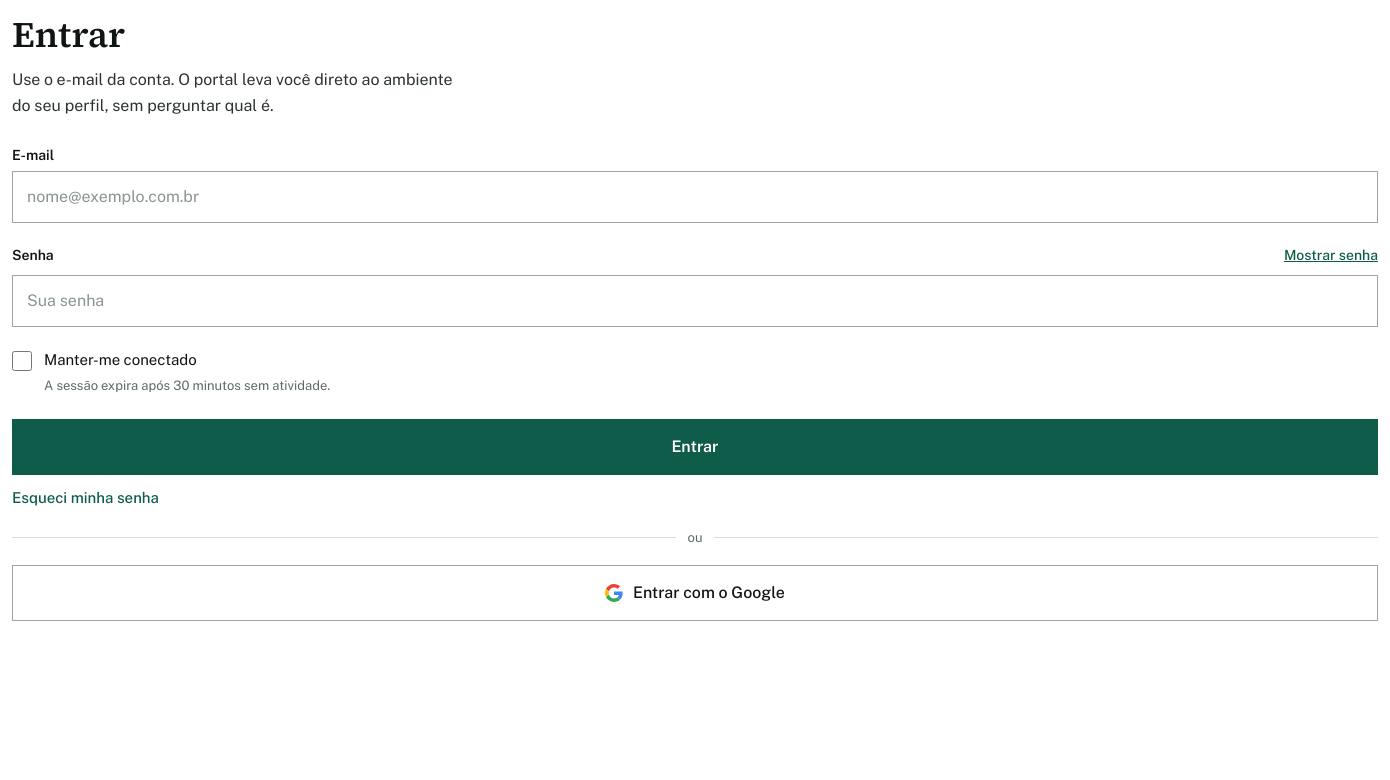
Test: LoginForm › diz antes de entrar quanto tempo a sessão vale
The image size is (1390, 780).
Click the checkbox. click: click(22, 361)
box: [12,351,32,371]
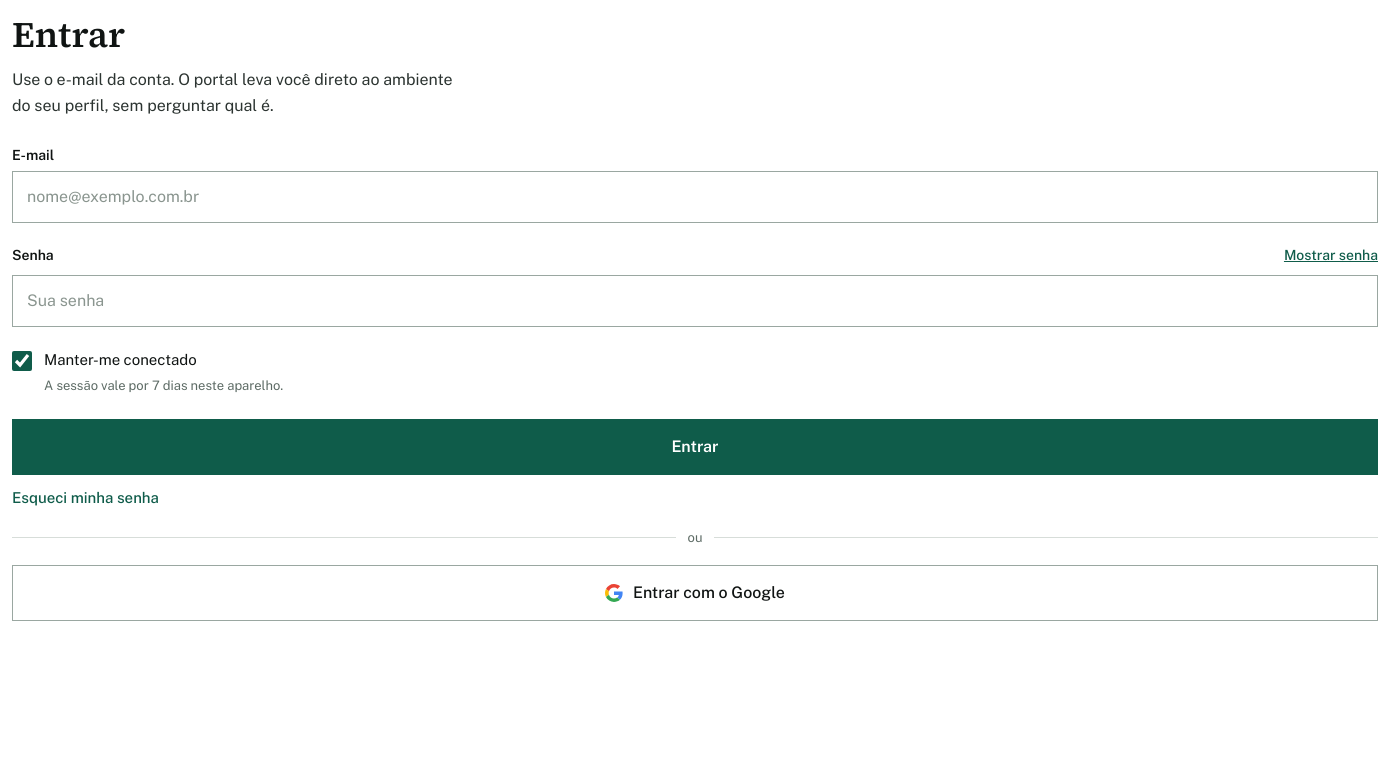
Result: the text "A sessão vale por 7 dias neste aparelho." is shown at [44,376,283,395]
